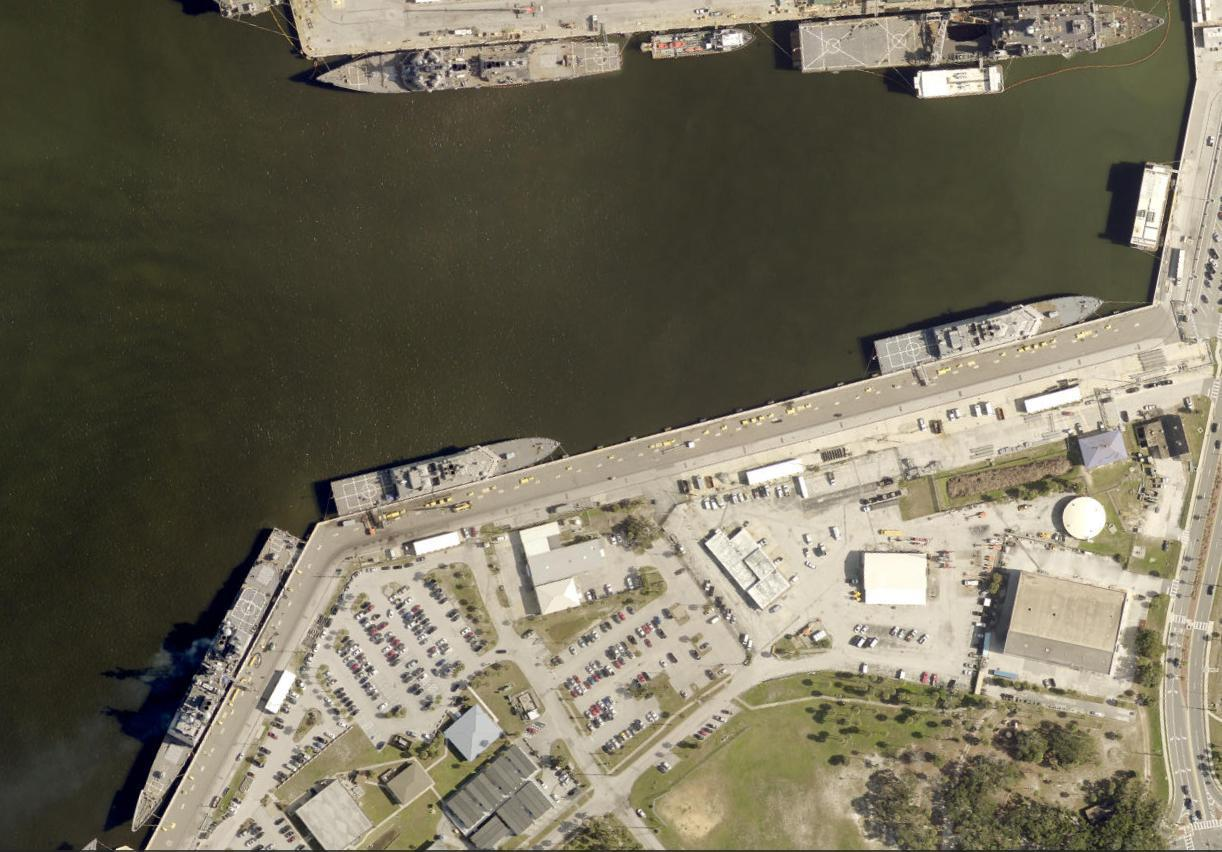destroyer: (123, 522, 307, 838)
patrol: (867, 281, 1116, 383), (325, 425, 569, 522)
